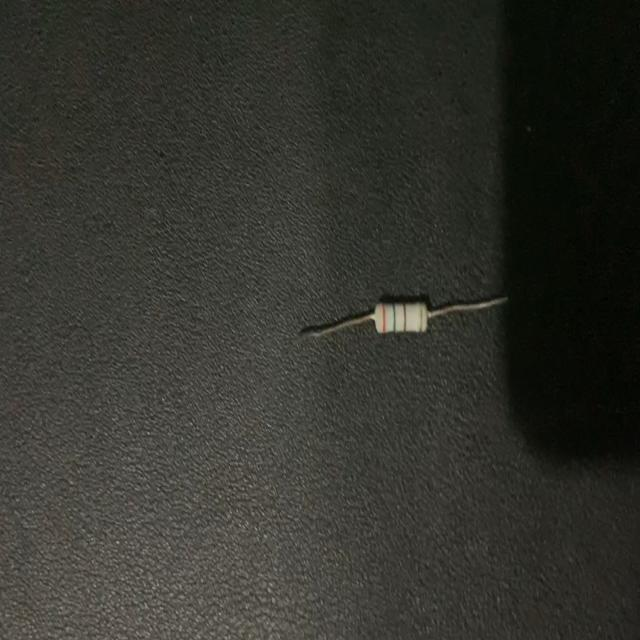resistor: (303, 296, 515, 334)
